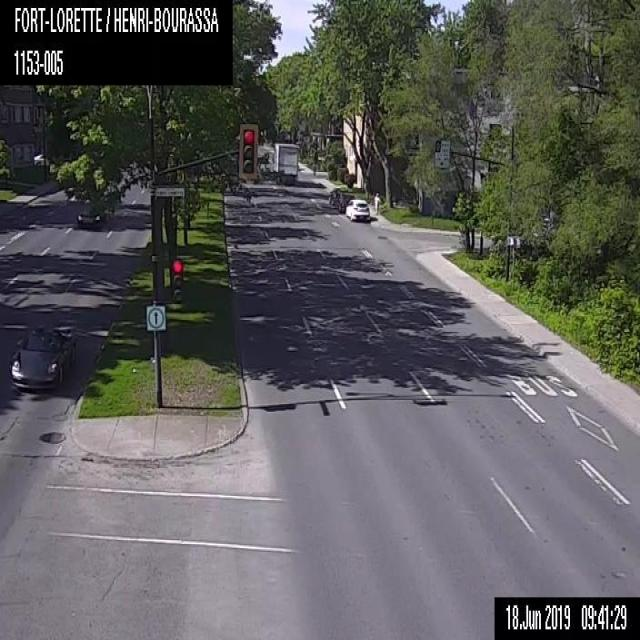pedestrian: (372, 191, 380, 216)
vehicle: (9, 319, 76, 394), (272, 140, 299, 183), (74, 202, 106, 230), (344, 198, 371, 224), (334, 191, 358, 212), (33, 152, 51, 167), (328, 187, 342, 205)
